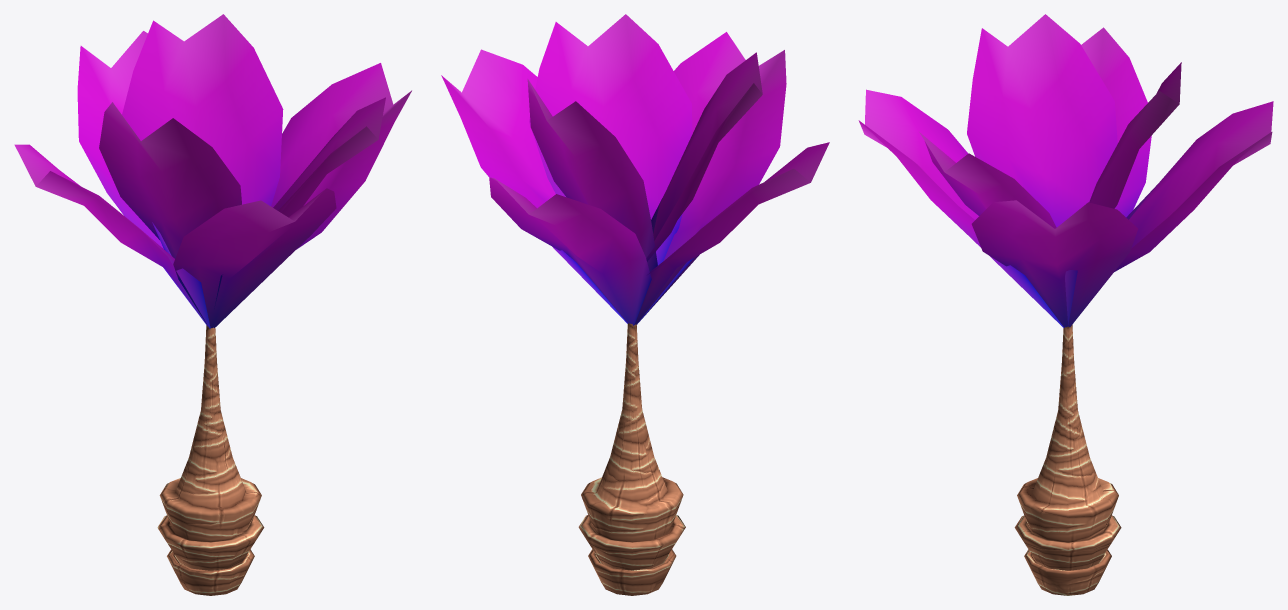
Rendered from Tree_Palm_08.fbx.
3 views of the same model, side by side, from view 1: azimuth 30°, elevation 25°; view 2: azimuth 150°, elevation 25°; view 3: azimuth 270°, elevation 25° (orthographic).
Parts seen in each view (by area): view 1: Palm_08; view 2: Palm_08; view 3: Palm_08.
Boxes of the visible parts, left/top/right/bottom form: Palm_08: left=14, top=14, right=411, bottom=595; Palm_08: left=441, top=14, right=829, bottom=595; Palm_08: left=858, top=14, right=1273, bottom=595.
Bounding box in the file's own units: 297 × 413 × 298.
